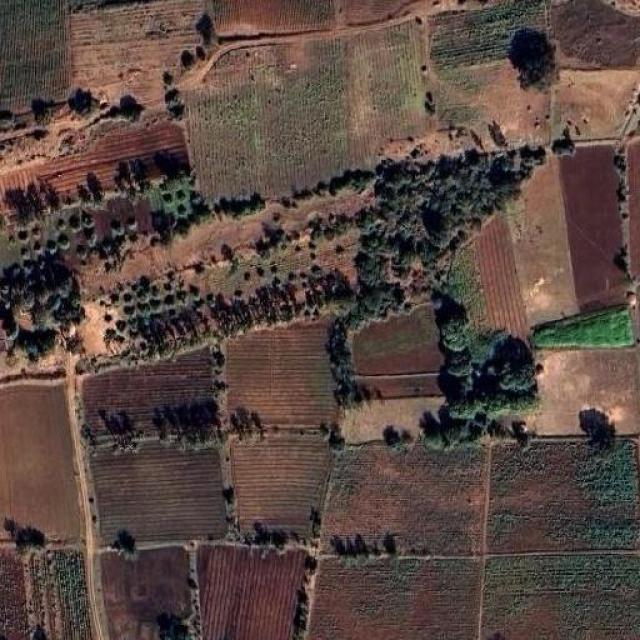land-Sx1C: (0, 166, 374, 376), (184, 20, 430, 198), (0, 0, 205, 111), (0, 121, 187, 222), (324, 444, 484, 554), (430, 0, 549, 143), (489, 439, 638, 552), (308, 556, 481, 640), (90, 444, 228, 544), (485, 552, 640, 640), (81, 348, 219, 444), (0, 380, 81, 541), (506, 158, 579, 326), (228, 322, 336, 430), (559, 145, 625, 310), (199, 545, 308, 639), (232, 434, 330, 536), (534, 348, 640, 435), (98, 546, 191, 640), (0, 548, 91, 640), (210, 1, 418, 38), (0, 0, 69, 111), (475, 215, 529, 339), (352, 304, 442, 375), (552, 69, 640, 139), (554, 0, 640, 66), (340, 396, 443, 446), (212, 0, 336, 37), (532, 306, 632, 348), (355, 373, 442, 398)
